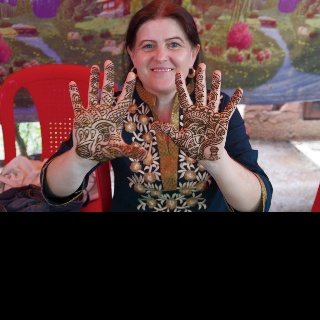without_mask: (126, 19, 200, 91)
